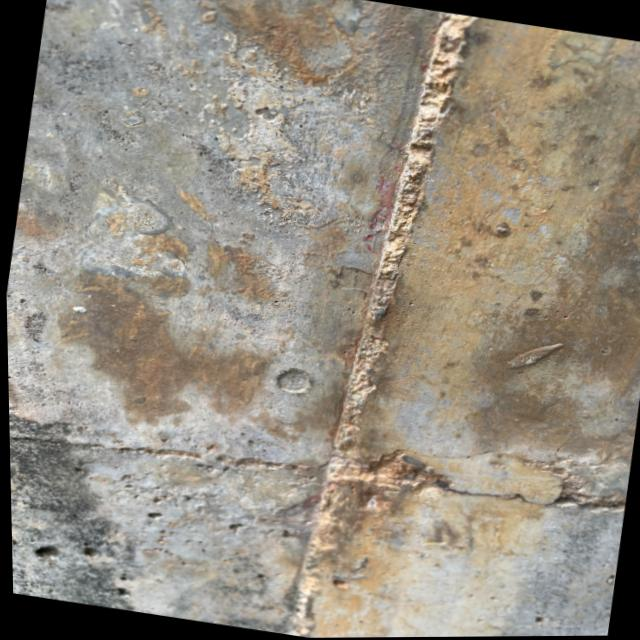Crack: (7, 372, 326, 509), (320, 425, 629, 549)
